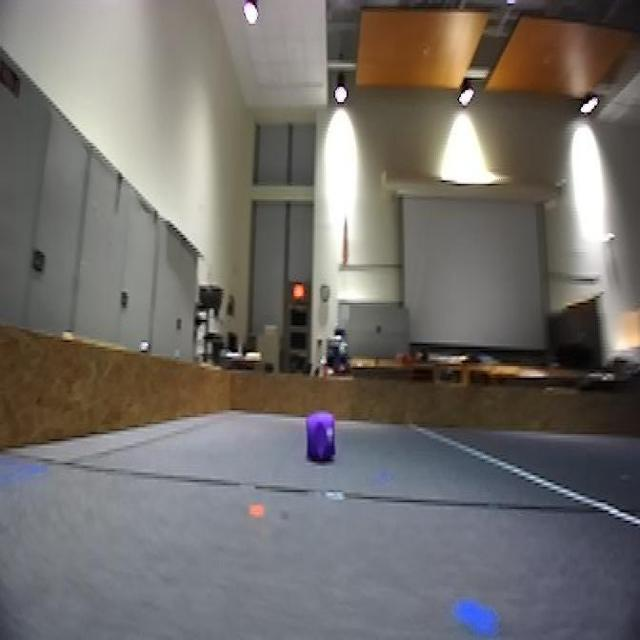frc_cube: (304, 411, 337, 466)
